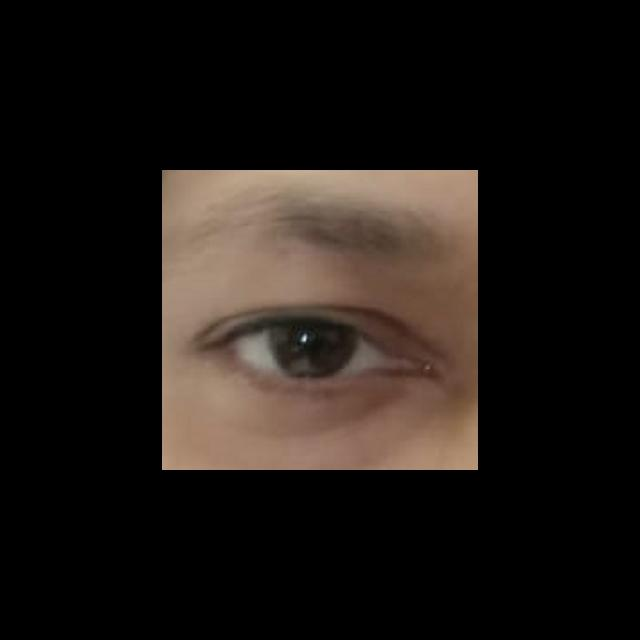eye: (229, 318, 386, 380)
iris: (268, 322, 358, 377)
